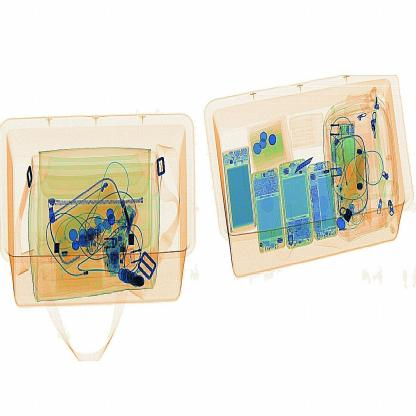pliers: (294, 150, 319, 183)
